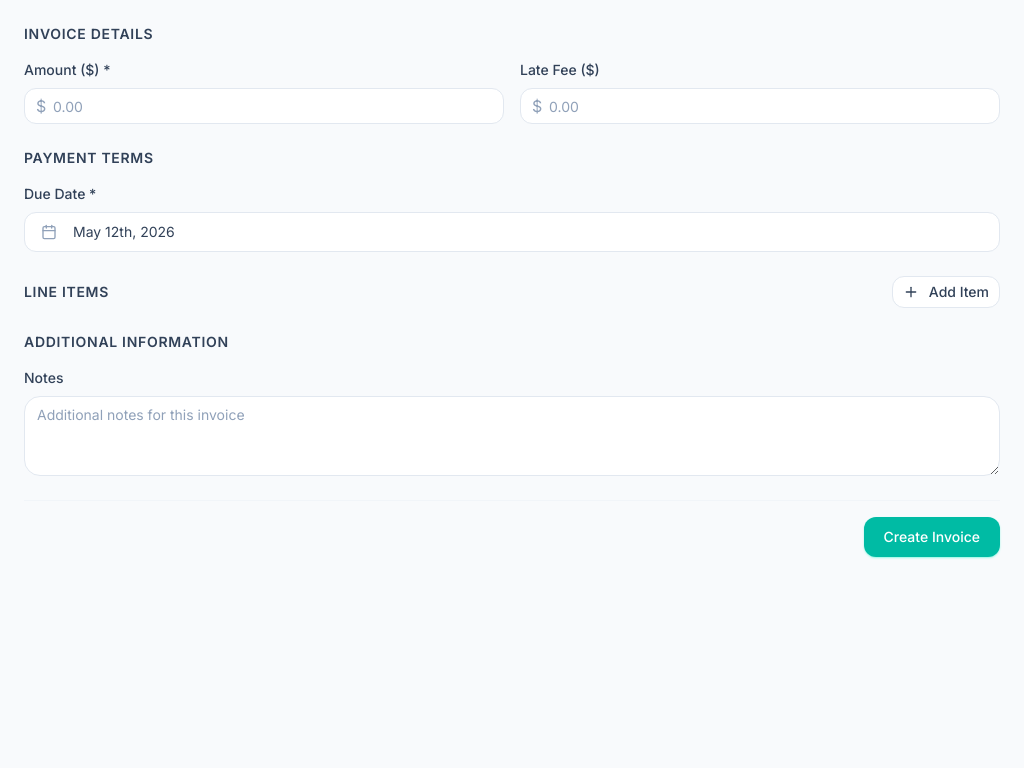
Test: InvoiceForm › add line item works
Click the button with test id "add-line-item-btn": (946, 292) [892,276,1000,308]
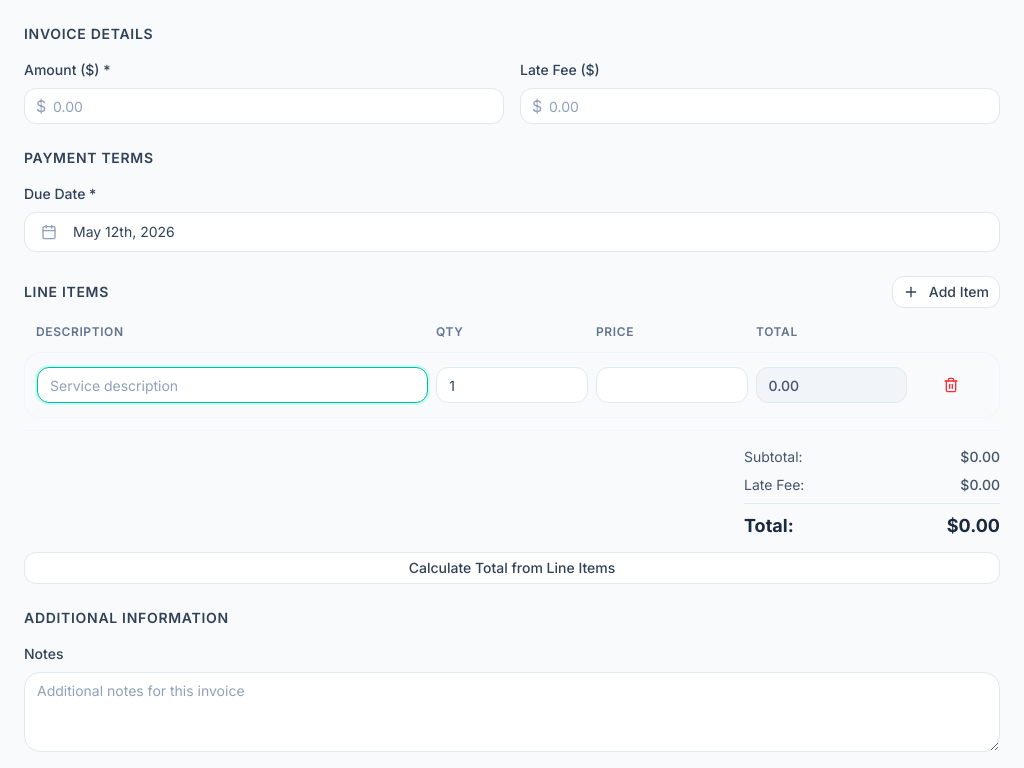
Now the element with test id "line-item-0" is shown, box [24,352,1000,418]
Now the field with test id "line-item-description" is shown, box [37,367,428,403]
